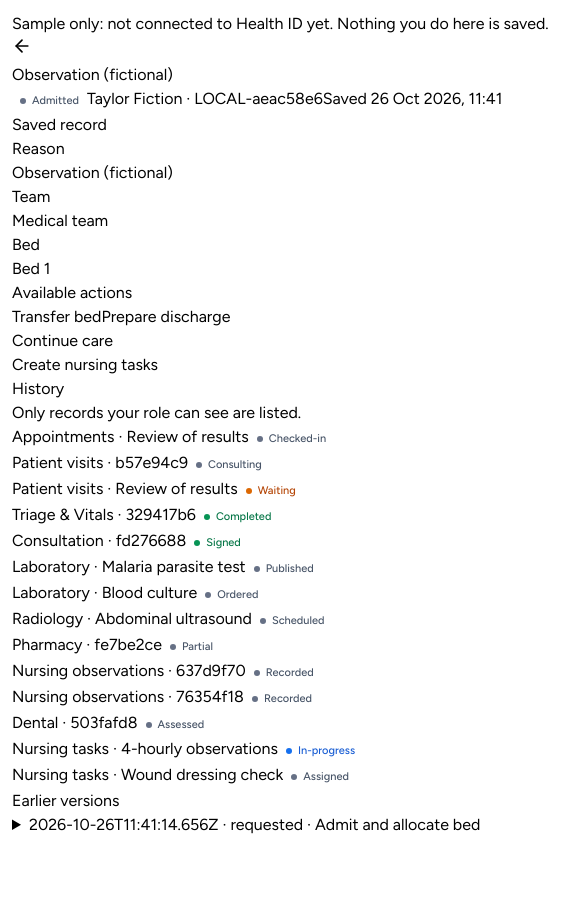
Test: inpatient › renders its first record with saved values, its actions (each opening its form), history and versions
Check: the text "Sample only: not connected to Health ID yet. Nothing you do here is saved." is shown once, box [12,14,549,33]
Check: the heading "Observation (fictional)" is shown, box [12,65,173,84]
Click the button "Transfer bed" at (57, 317), box [12,305,102,329]
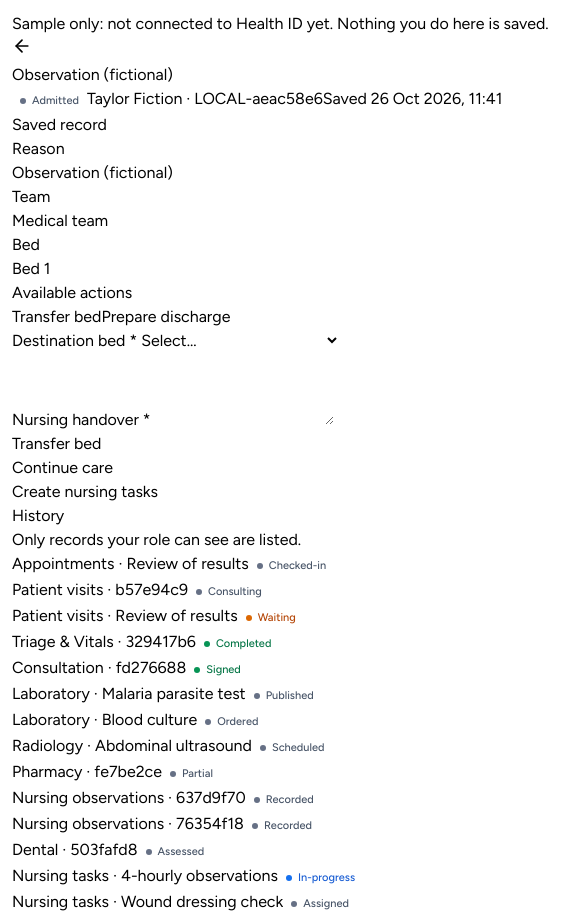
Check: the button "Transfer bed" below "Nursing handover" is shown, box [12,432,102,456]
Click the button "Prepare discharge" at (166, 317), box [102,305,230,329]
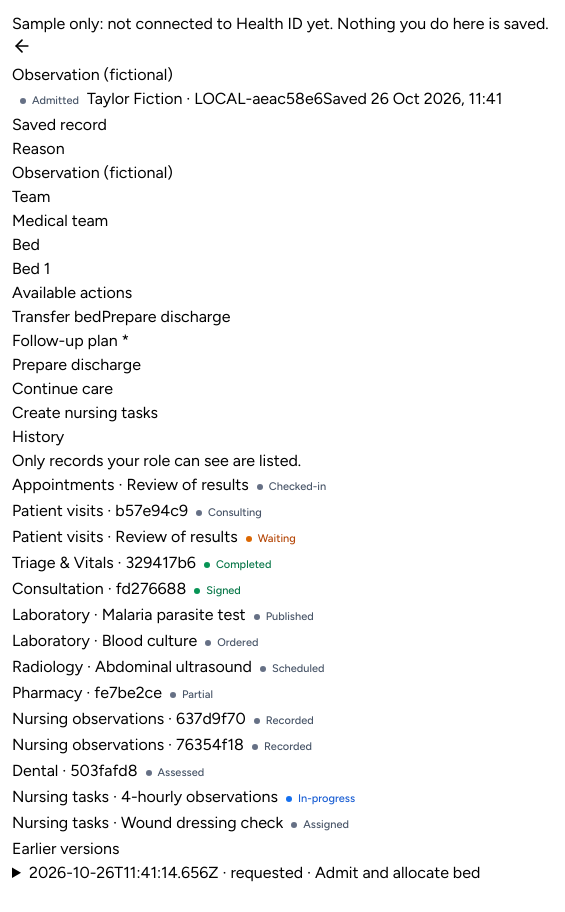
Check: the button "Prepare discharge" below "Follow-up plan" is shown, box [12,353,141,377]
